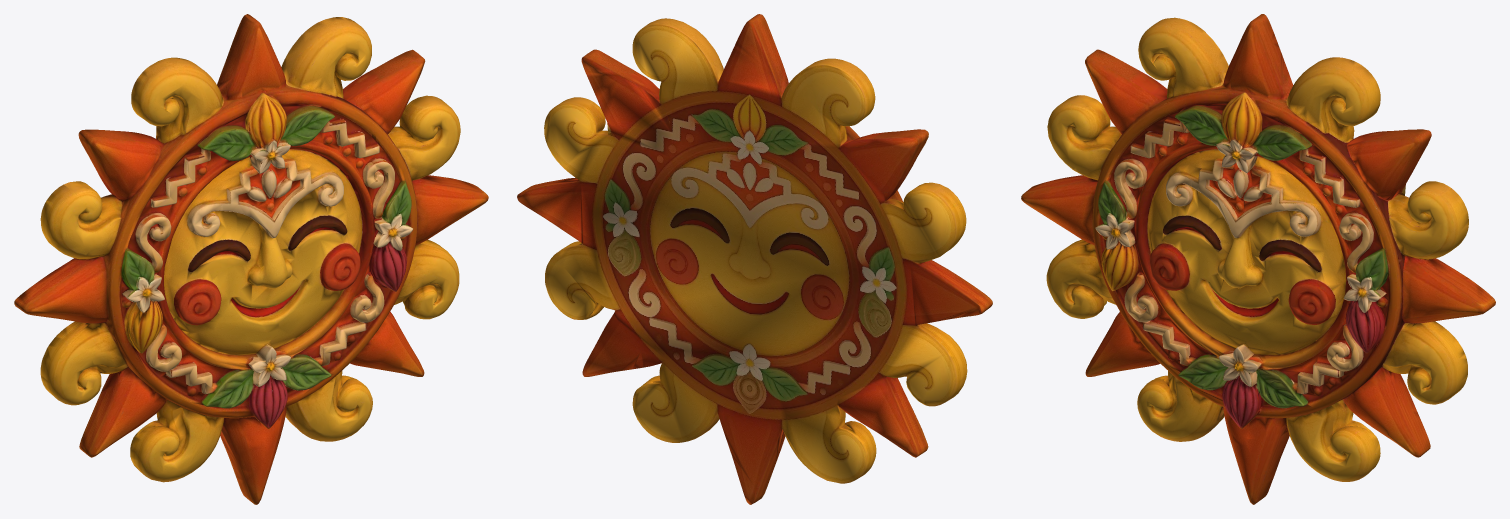
File: harvest-sun.glb
3 renders of one model, left to right at view 1: azimuth 30°, elevation 25°; view 2: azimuth 150°, elevation 25°; view 3: azimuth 330°, elevation 25°, orthographic.
Bounding box in the file's own units: 1.9 × 1.89 × 0.2323.
Materials: 1 (1 with a texture image).
